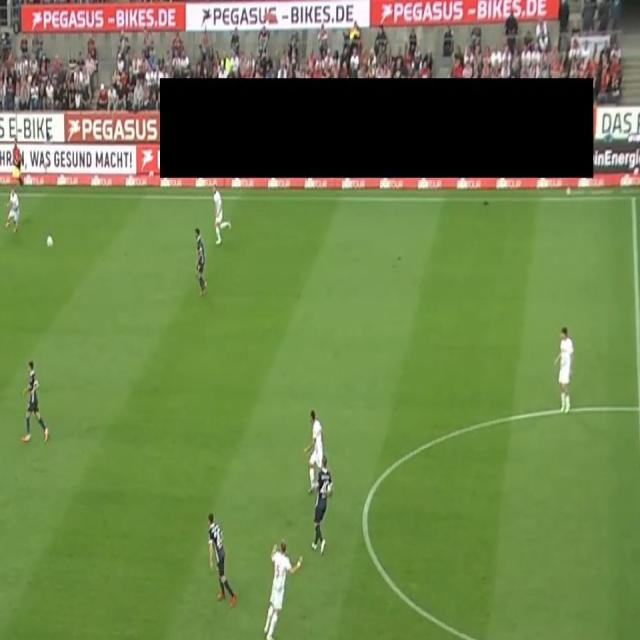ball: (45, 232, 54, 248)
